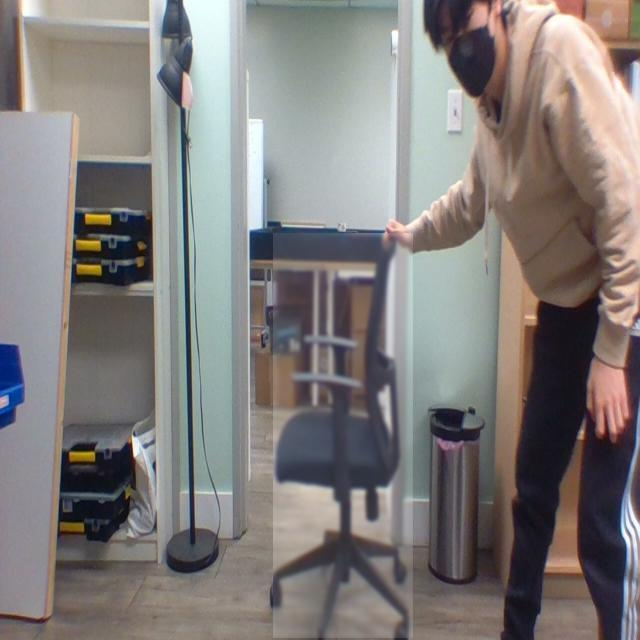chair: (274, 233, 414, 639)
